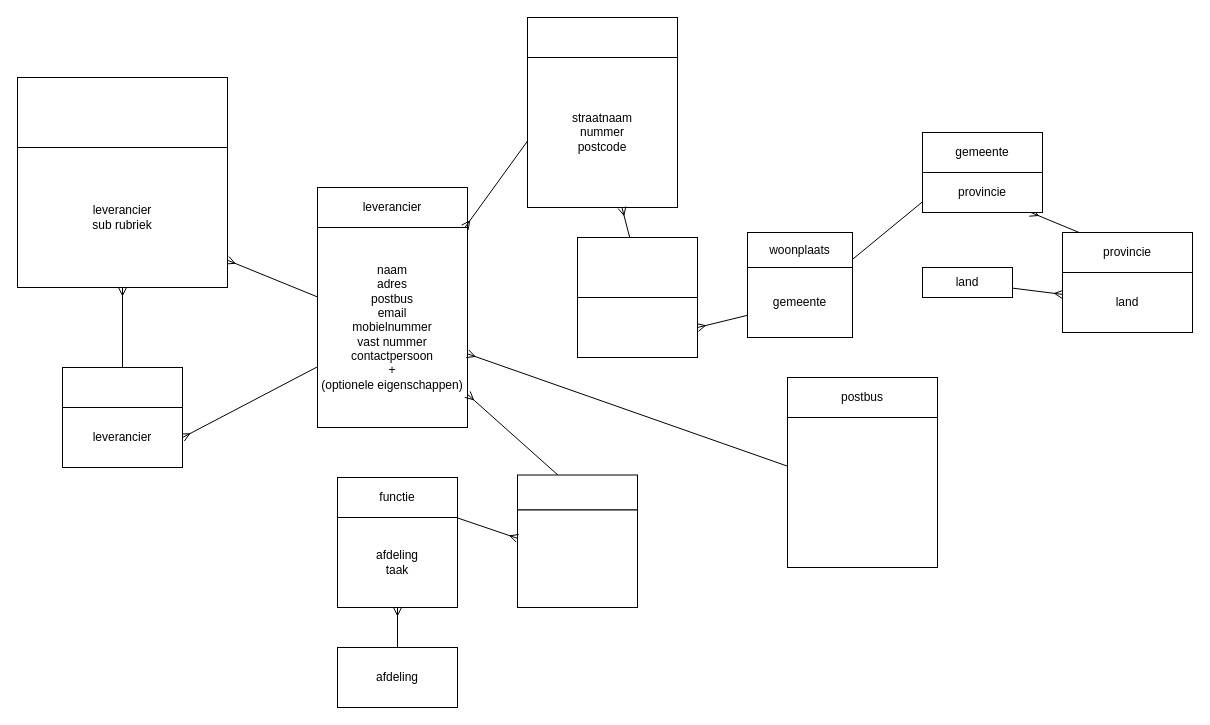
The diagram is 1210 pixels wide and 725 high, and some of its shapes have lost their labels. The centre of each missing label's shape, as x and y in pixels:
adres: (x=602, y=37)
contactpersoon: (x=577, y=492)
geo-locatie straatnaam woonplaats: (x=637, y=327)
hoofdrubriek: (x=122, y=112)
naam email telefoonnummer functie: (x=577, y=558)
postbusnummer postcode plaats: (x=862, y=492)
postcode: (x=637, y=267)
sub rubriek: (x=122, y=387)
